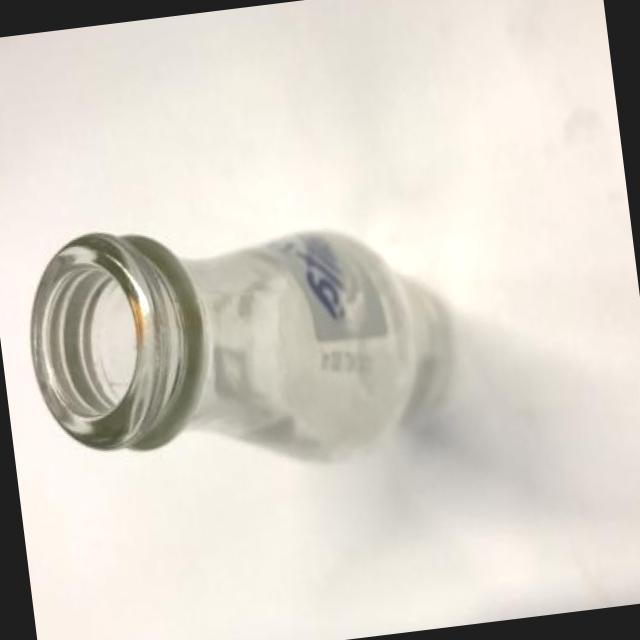chai_thuy_tinh: (29, 232, 457, 466)
